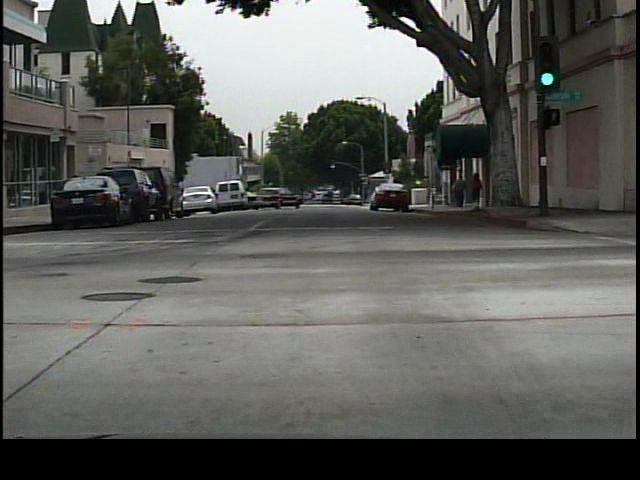person: (448, 175, 470, 211), (469, 168, 487, 212)
